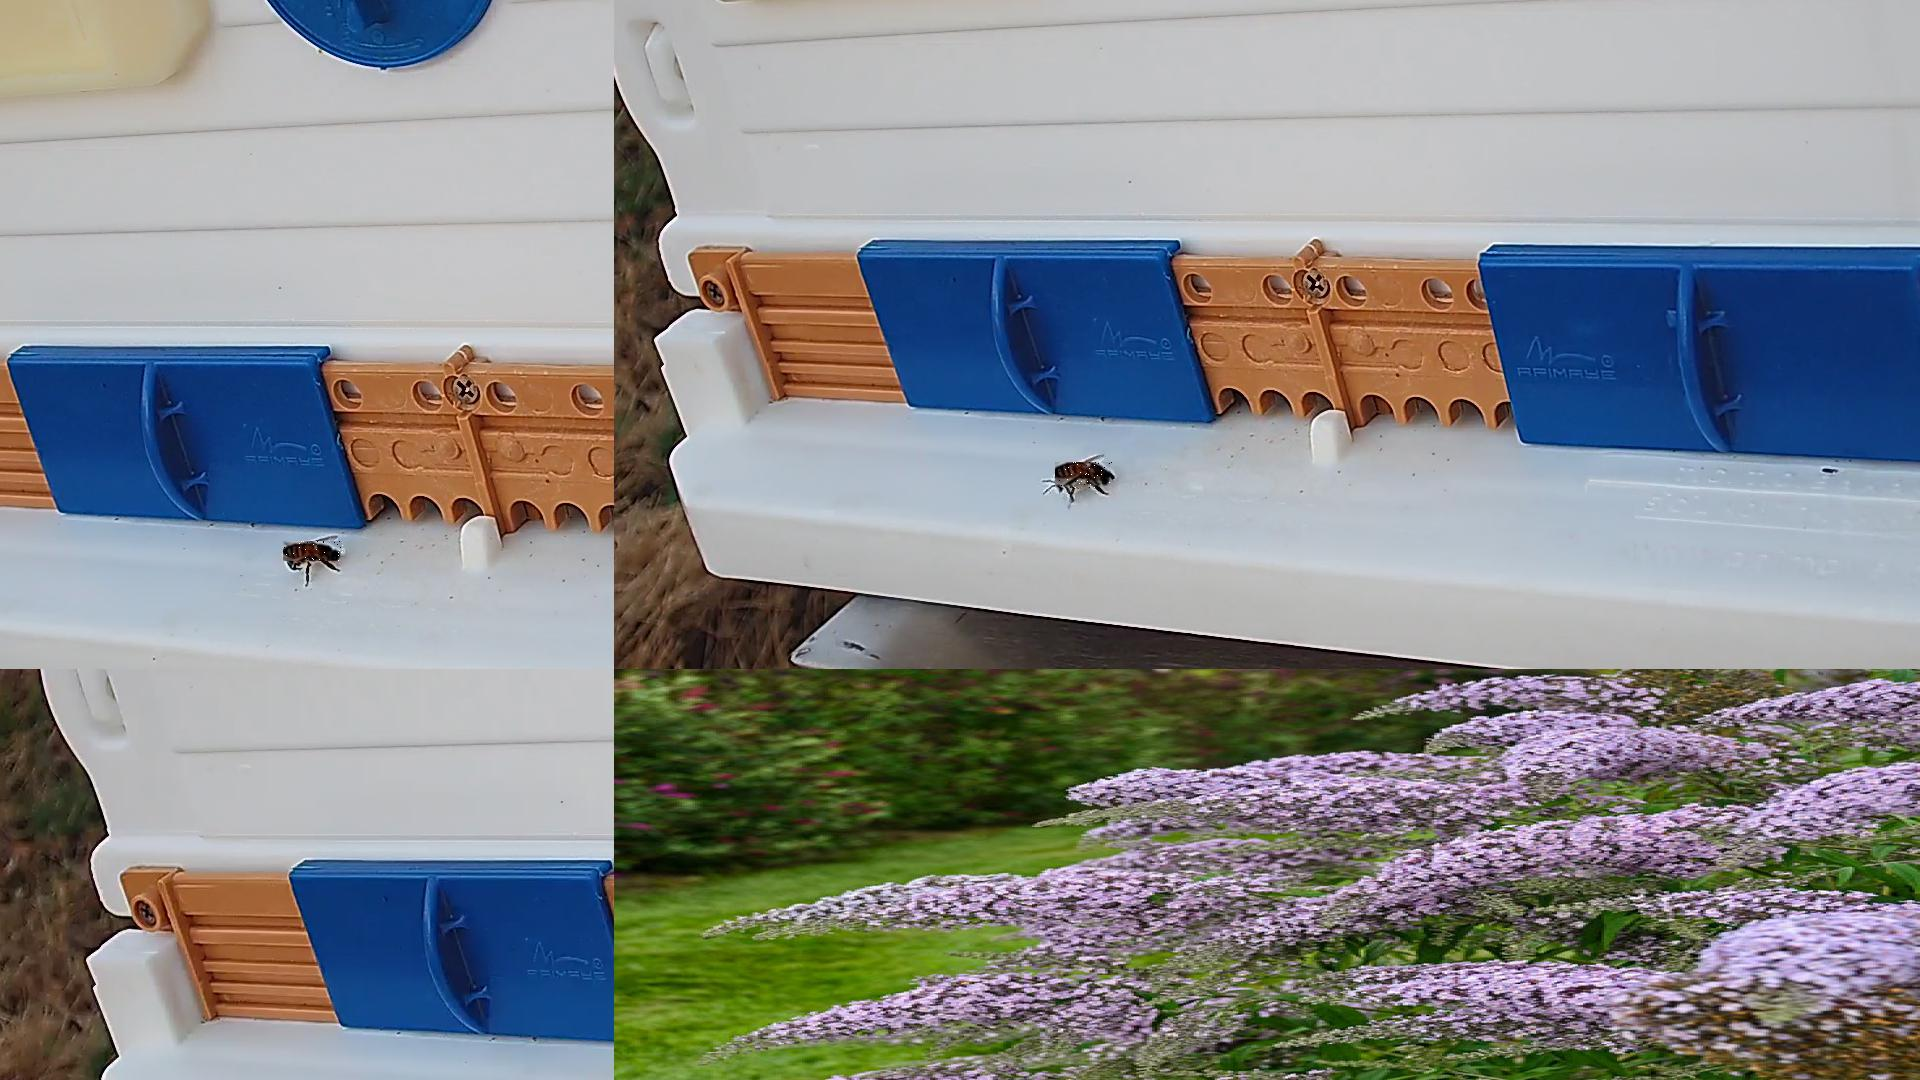bee: (1056, 463, 1114, 489), (284, 541, 345, 562)
